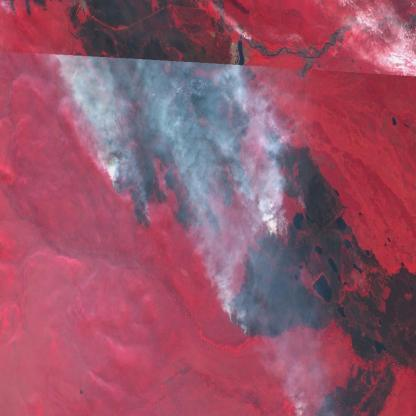fire: (67, 58, 160, 221), (168, 99, 245, 215), (240, 210, 292, 253), (264, 123, 297, 187), (222, 275, 254, 336), (4, 0, 45, 21)
